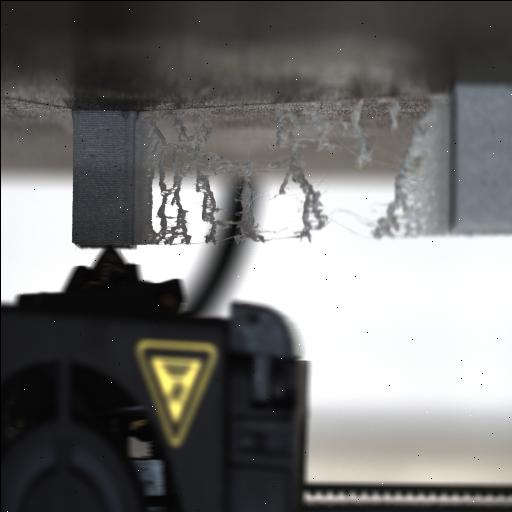stringing: (140, 104, 328, 246), (150, 163, 190, 245)
